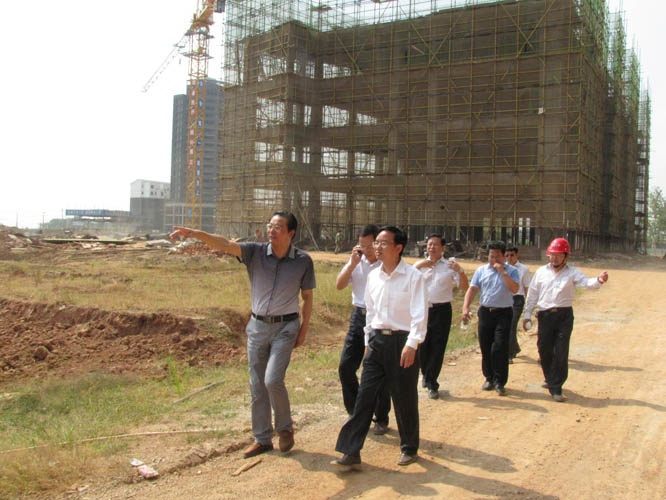none: (371, 224, 407, 263), (265, 209, 300, 247), (355, 223, 381, 261), (423, 232, 446, 259), (484, 242, 505, 268), (501, 244, 518, 264)
red: (544, 236, 573, 268)
